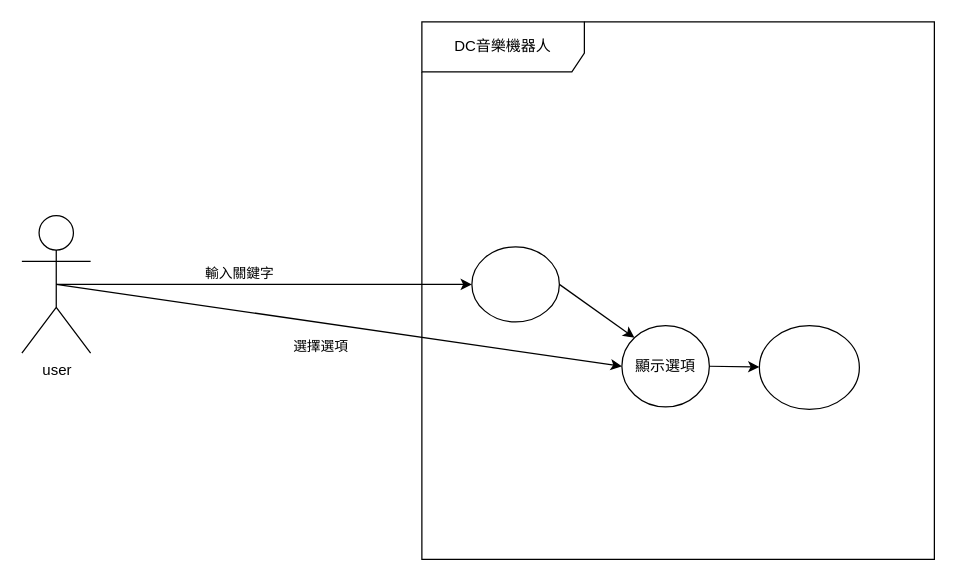
The diagram is 956 pixels wide and 581 high, and some of its shapes have lost their labels. Each missing label, with the box of its shape:
搜尋歌曲: (471, 246, 559, 322)
播放音樂: (758, 324, 859, 409)
